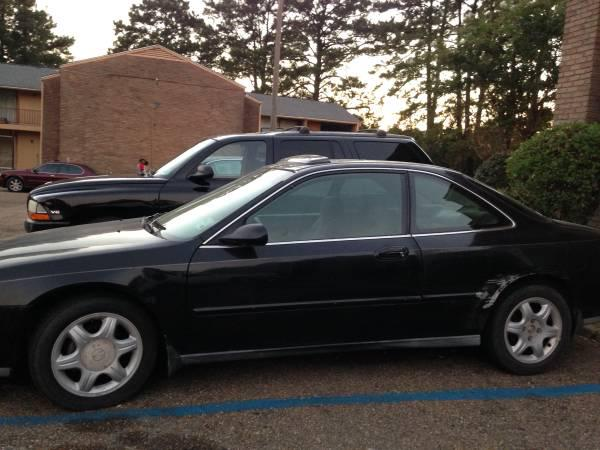acura: (1, 153, 597, 410)
